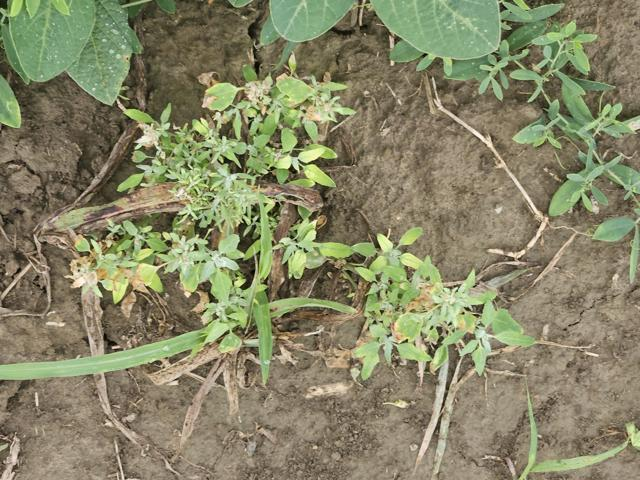bad weed: (81, 86, 480, 379), (505, 47, 640, 248), (502, 412, 630, 473)
